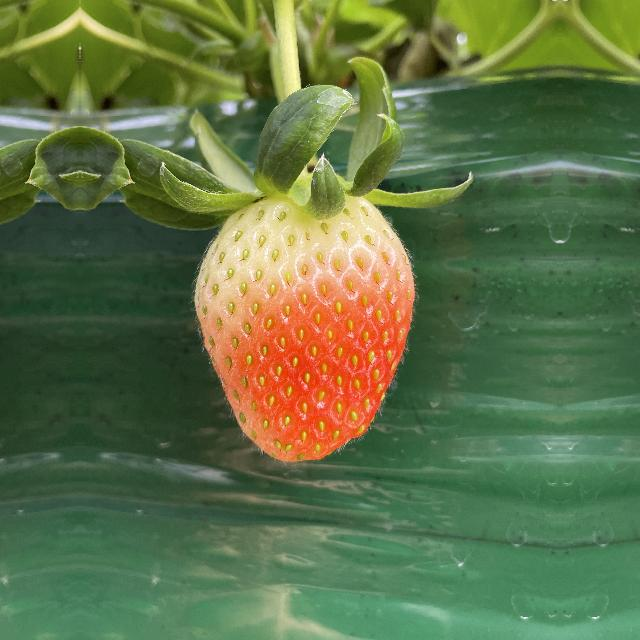Health_75: (192, 190, 420, 470)
